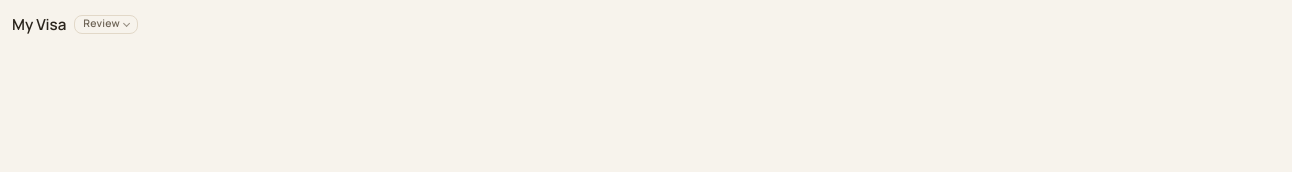
Test: CardRoutingControl › slides a menu of Review + list chips open, excluding the current setting
Click the button "Review".
click(106, 24)  # box [74, 14, 138, 34]
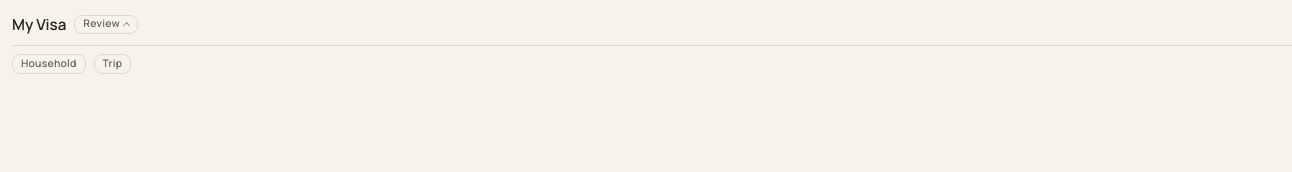
Expected: the button "Household" is shown, [12, 54, 86, 74]
Now the button "Review" is expanded, box [74, 14, 138, 34]
